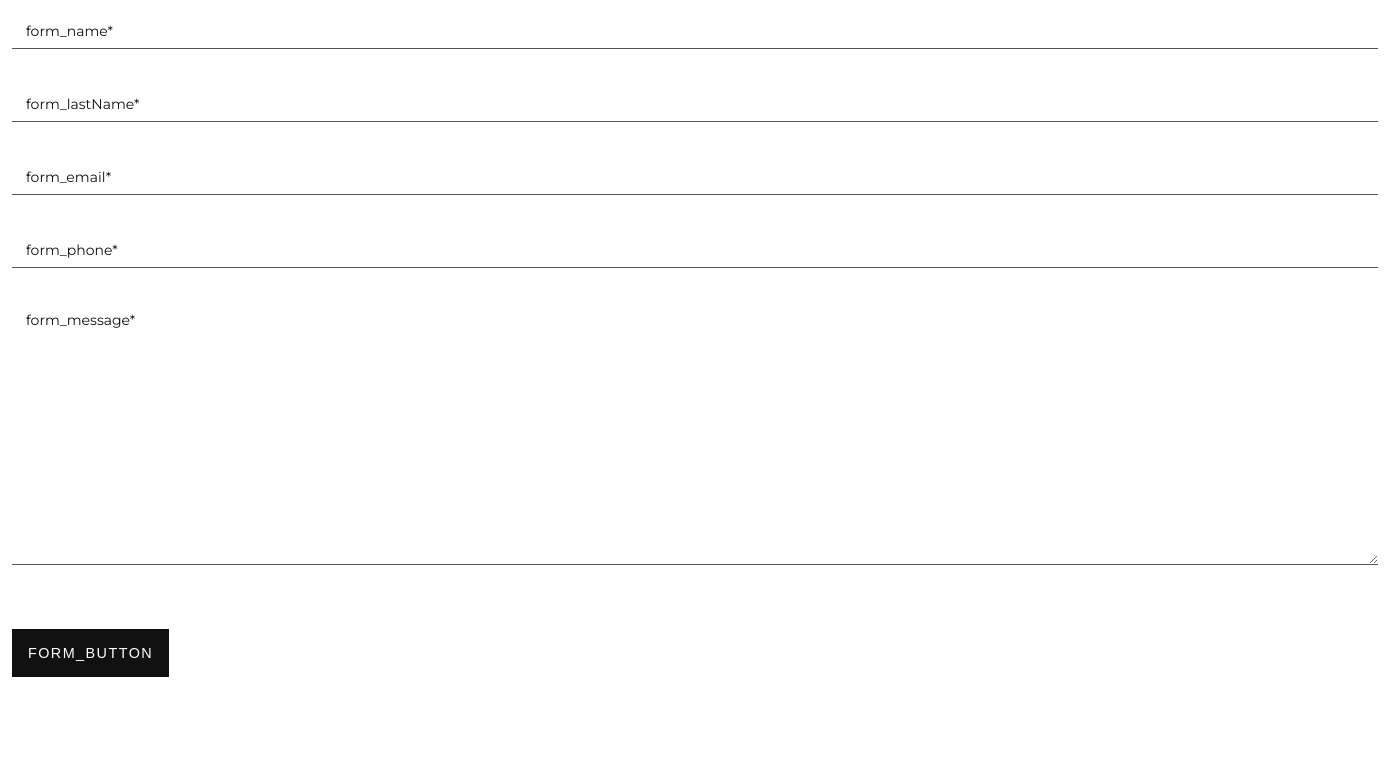
Test: ContactForm › submits successfully and shows success message
This screenshot has width=1390, height=780.
Type "John" into the field labelled "form_name*".
click(695, 30); type("John")  # box [12, 12, 1378, 49]
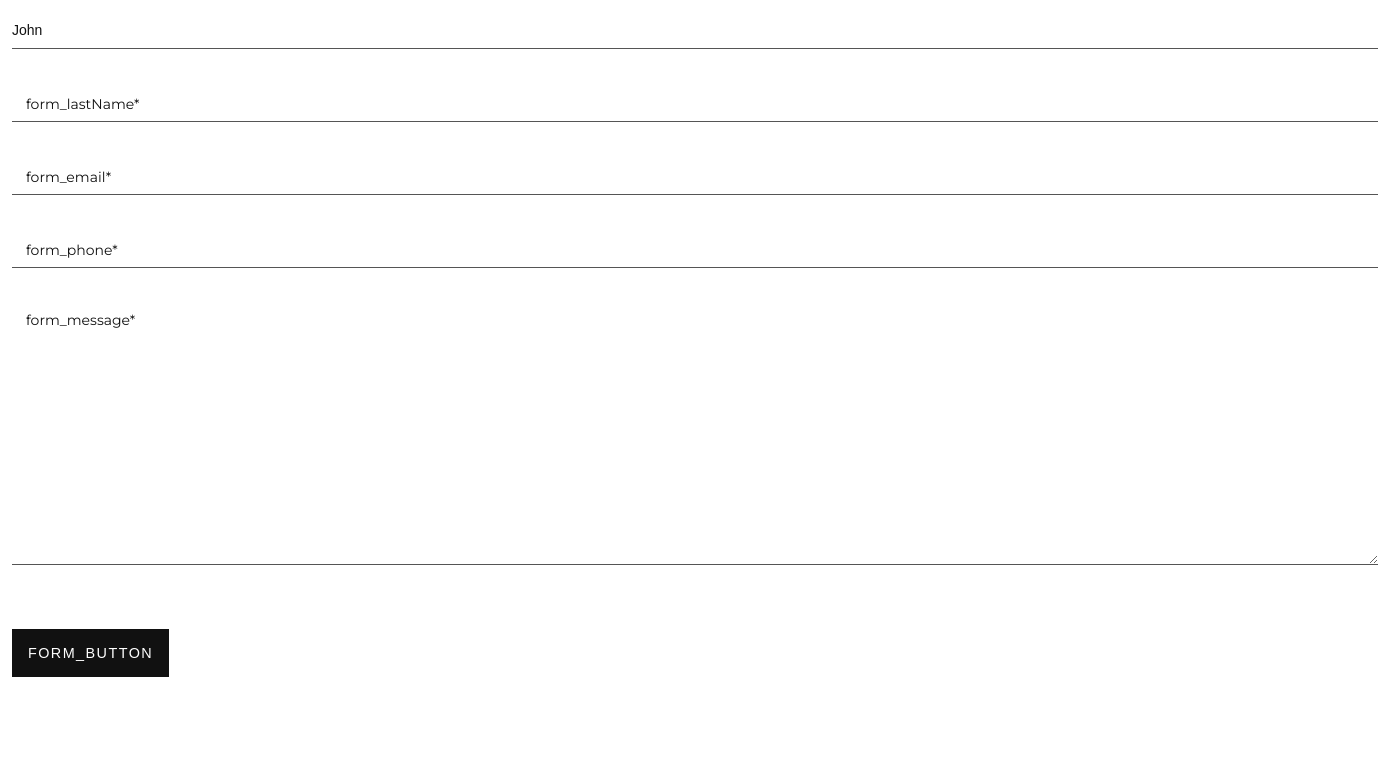
Type "Doe" into the field labelled "form_lastName*".
click(695, 104); type("Doe")  # box [12, 85, 1378, 122]
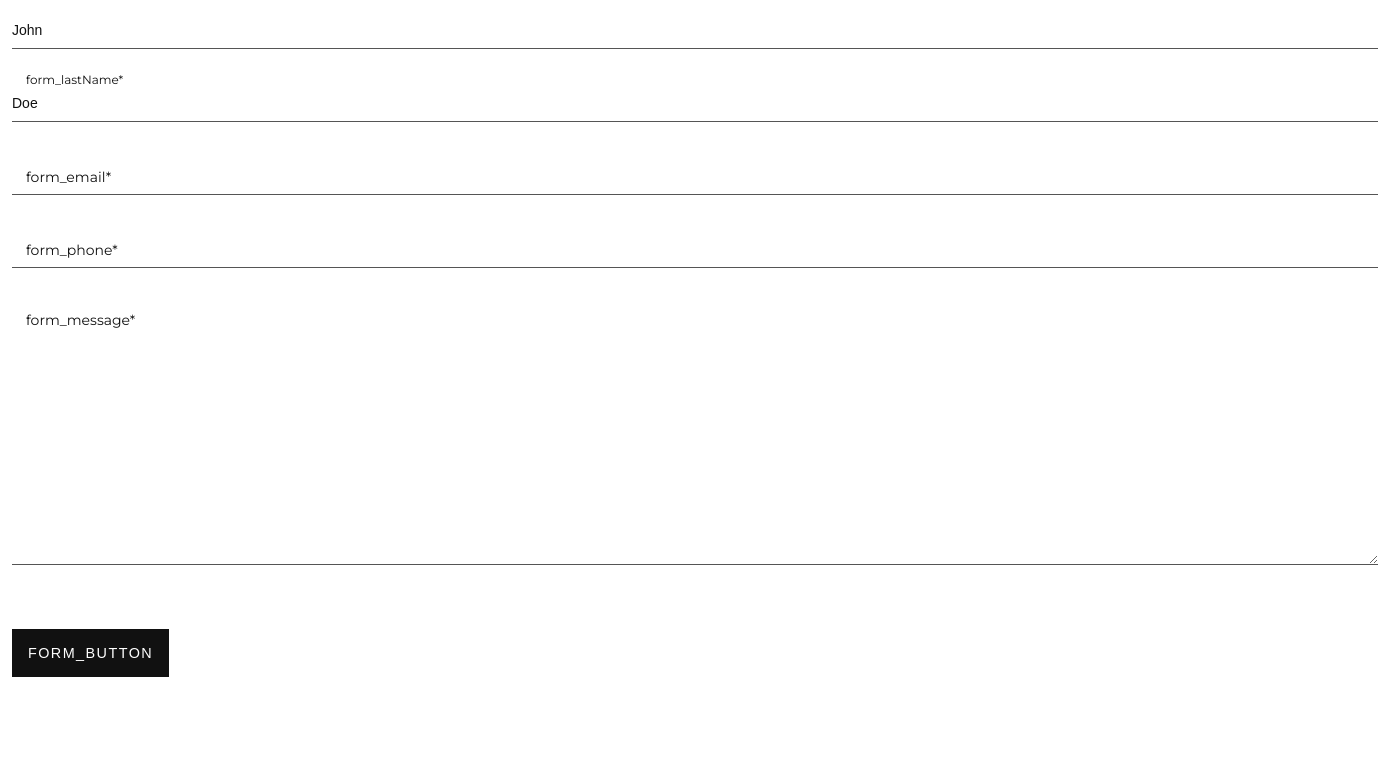
Type "john@test.com" into the field labelled "form_email*".
click(695, 176); type("john@test.com")  # box [12, 158, 1378, 195]
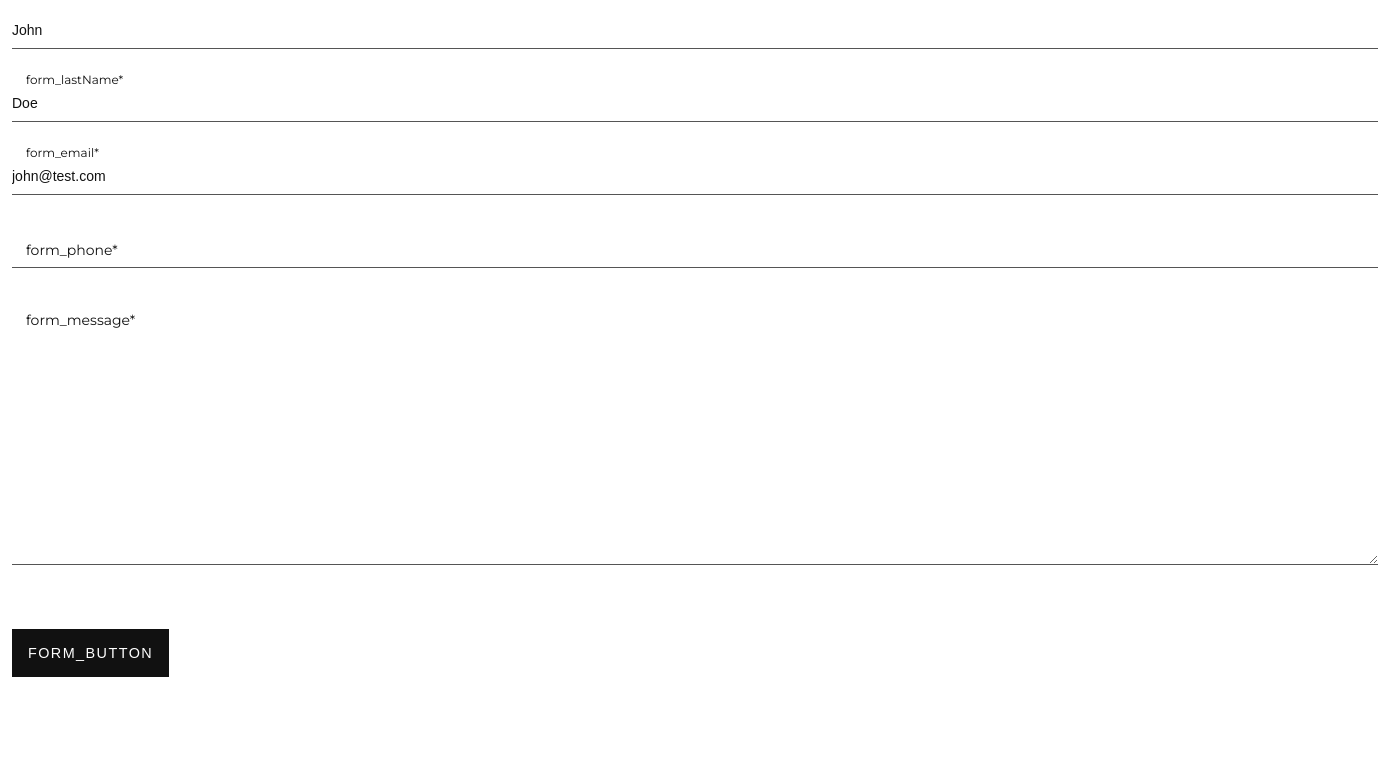
Type "123456789" into the field labelled "form_phone*".
click(695, 250); type("123456789")  # box [12, 231, 1378, 268]
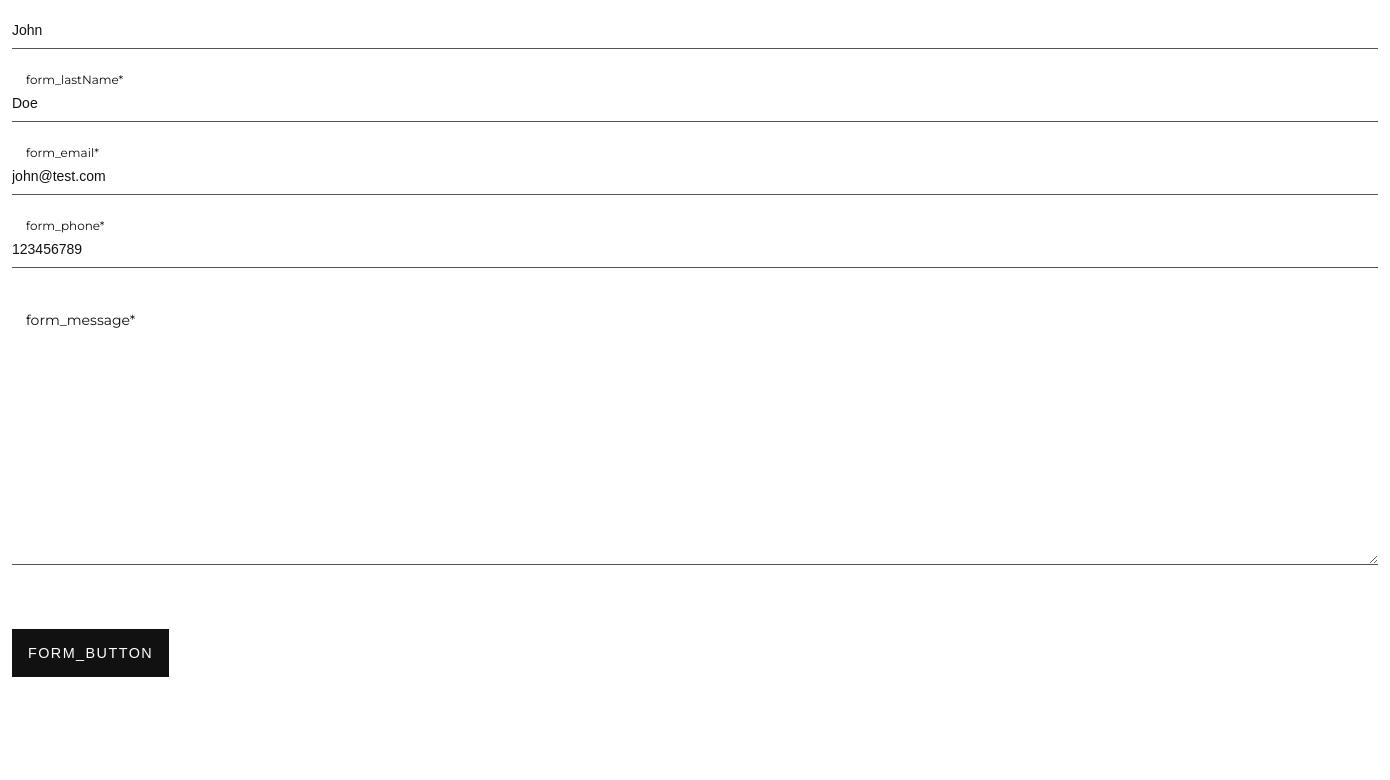
Type "Hello world" into the text box labelled "form_message*".
click(695, 434); type("Hello world")  # box [12, 304, 1378, 565]
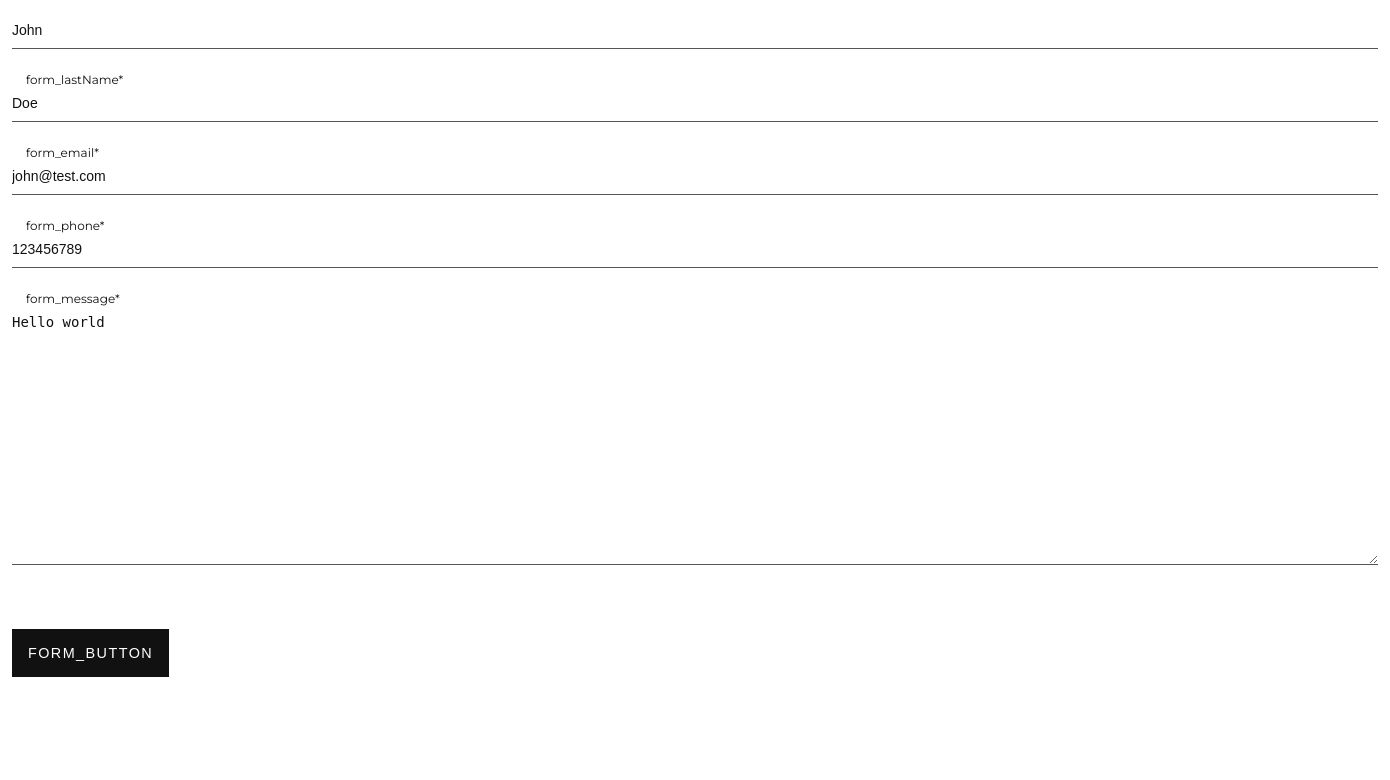
Click the button "form_button".
click(91, 653)  # box [12, 629, 169, 677]
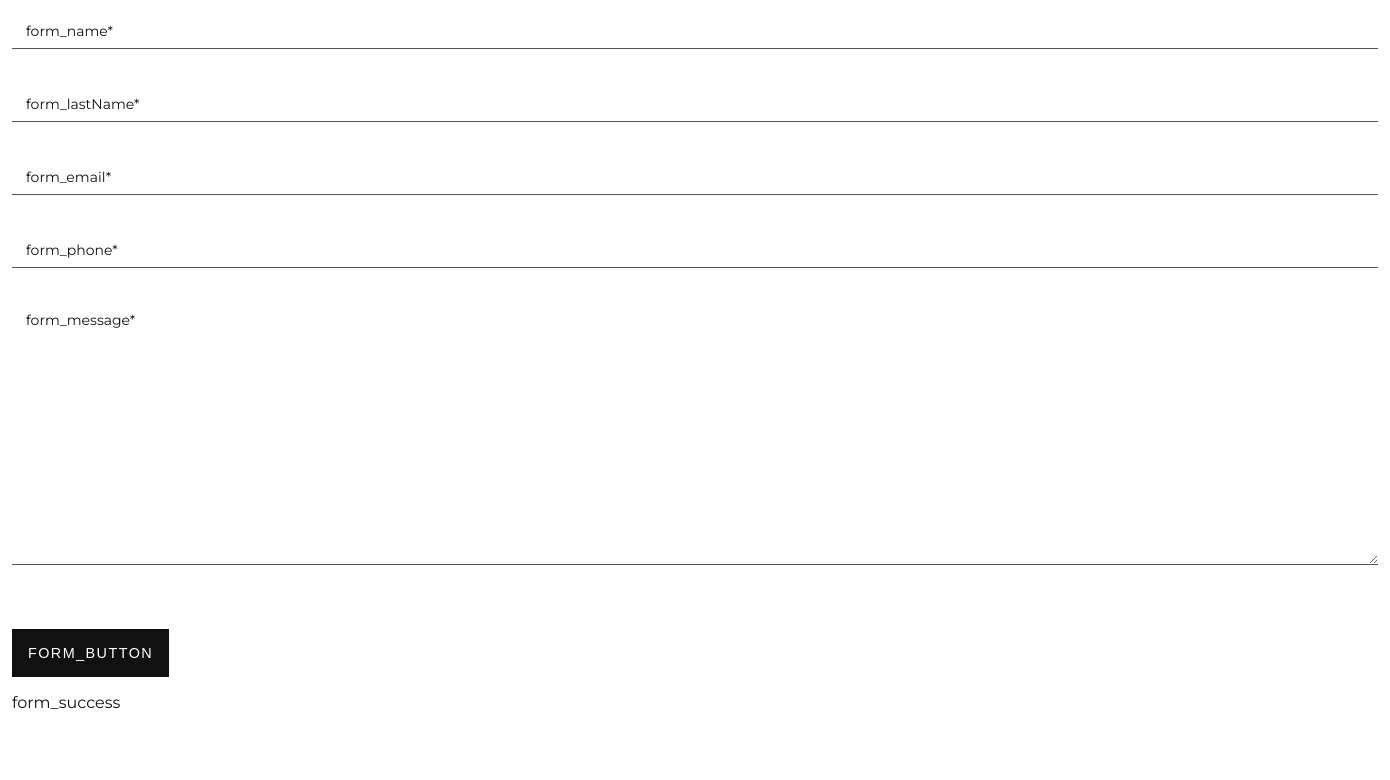
Expected: the message "form_success" is shown, [12, 693, 120, 712]
